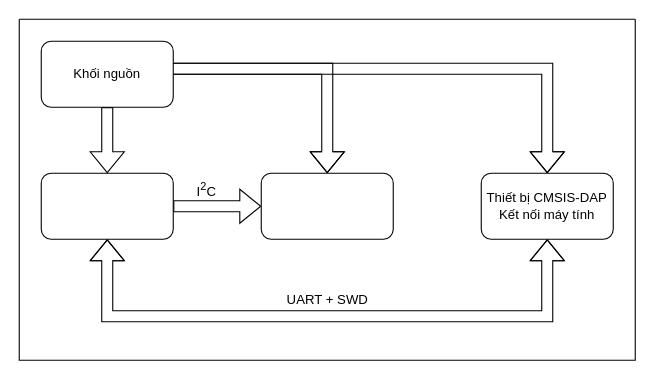
This 655x380 diagram has some shape labels left out. The shapes that lost their labels are listed below. From the top down, each one's centre as x and y in pixels, then its label:
At (106,205): "Mạch phát triển Blue Pill".
At (326,205): "Mô đun PCF8574 Màn hình LCD1602".
